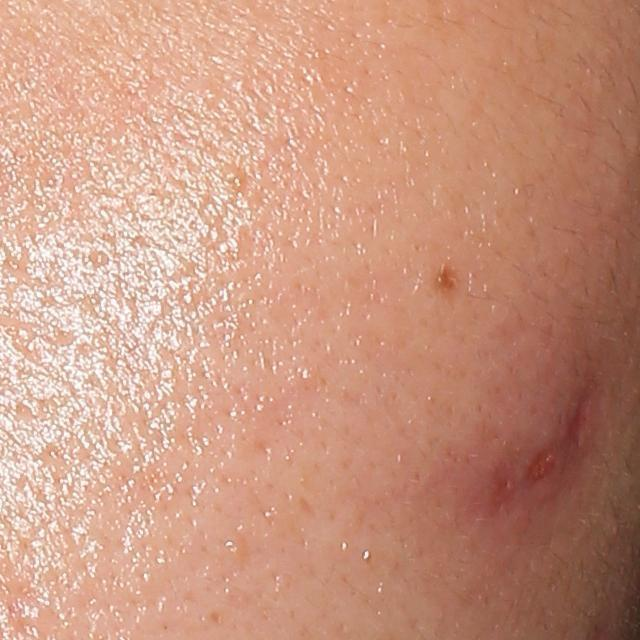atrophic_scar: (524, 445, 559, 485), (567, 393, 590, 447)
nevus: (432, 257, 471, 296)
